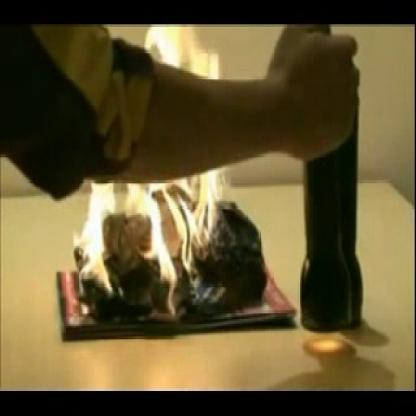fire: (62, 165, 243, 298), (132, 25, 235, 90)
